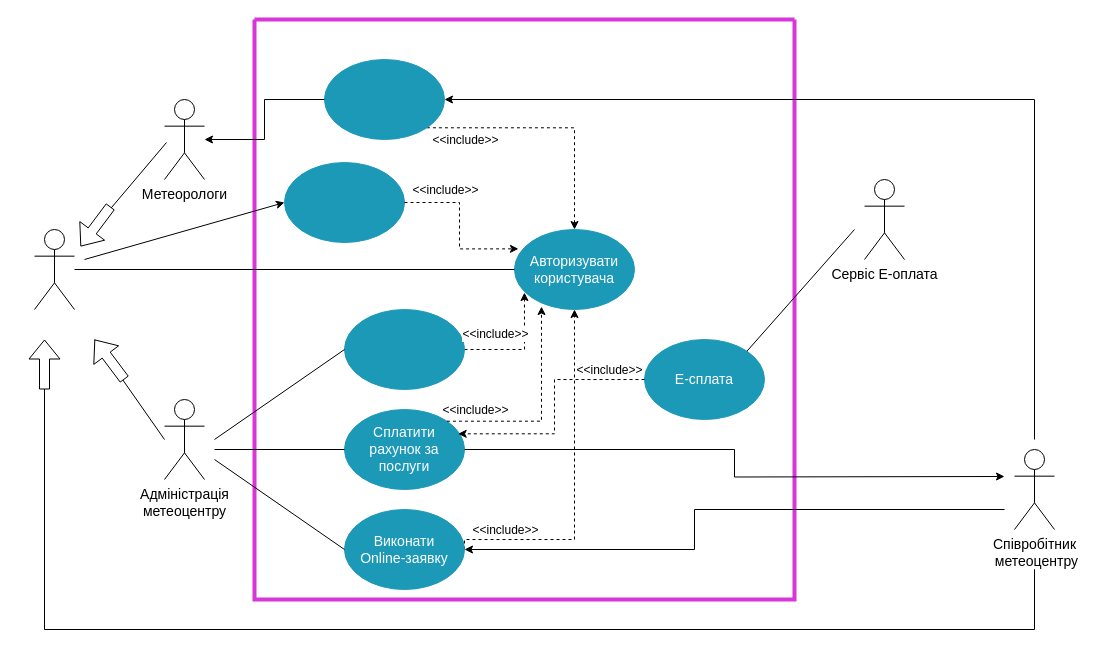
The diagram is 1095 pixels wide and 655 high, and some of its shapes have lost their labels. Here are the shapes that lost their labels. From the top down, the box of each, then its label:
(324, 58, 444, 140): Отримати план
(284, 162, 404, 242): Створити Оnline-заявку
(34, 228, 74, 310): Користувач
(344, 308, 464, 390): Об'єднати Оnline-заявку
